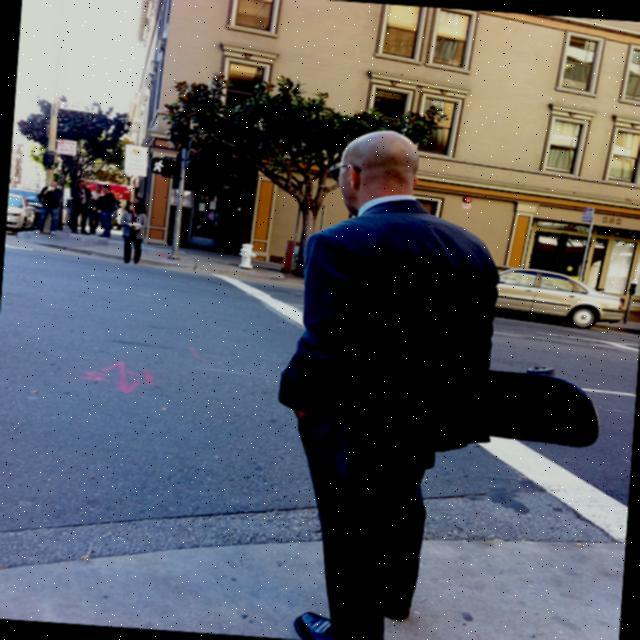fire_hydrant: (235, 242, 257, 268)
